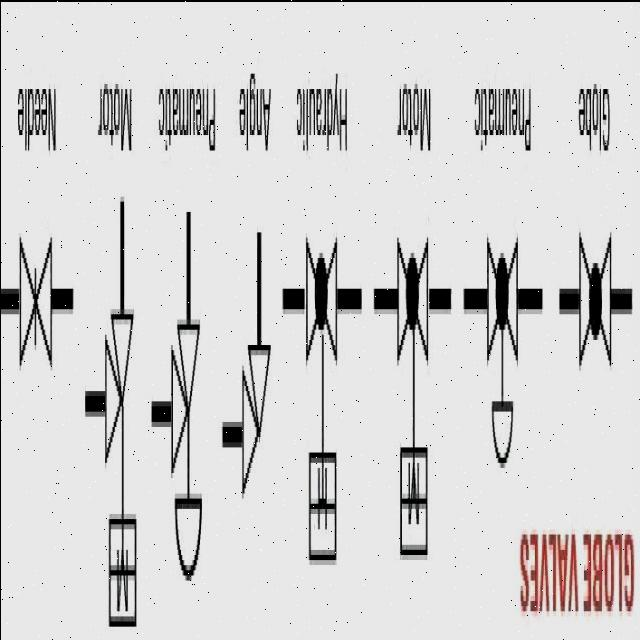Angle Valve: (230, 267, 280, 547)
Globe Valve: (571, 209, 618, 399)
Hydraulic Operated Globe Valve: (299, 223, 343, 592)
Motor Operated Angle Valve: (88, 241, 145, 640)
Motor Operated Globe Valve: (390, 219, 442, 579)
Needle Valve: (6, 215, 64, 401)
Pneumatic-Diaphragm Angle Valve: (162, 259, 208, 602)
Pneumatic-Diaphragm Globe Valve: (476, 206, 531, 504)
